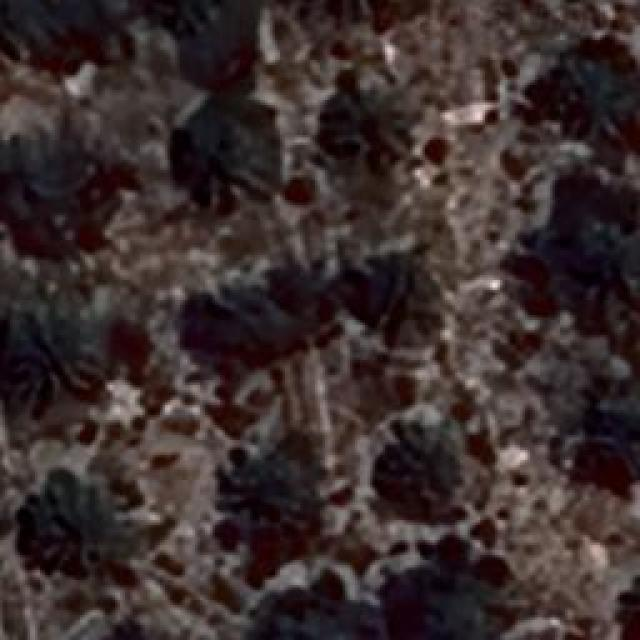PalmTree: (0, 109, 105, 234), (216, 438, 324, 552), (354, 246, 456, 354), (537, 43, 640, 146), (26, 476, 136, 572), (198, 280, 298, 378), (562, 226, 640, 342), (4, 300, 98, 395), (396, 562, 506, 640), (370, 414, 468, 498), (570, 388, 640, 496), (317, 78, 395, 174), (0, 0, 120, 62), (180, 110, 258, 192), (256, 595, 362, 640), (136, 0, 227, 36)
